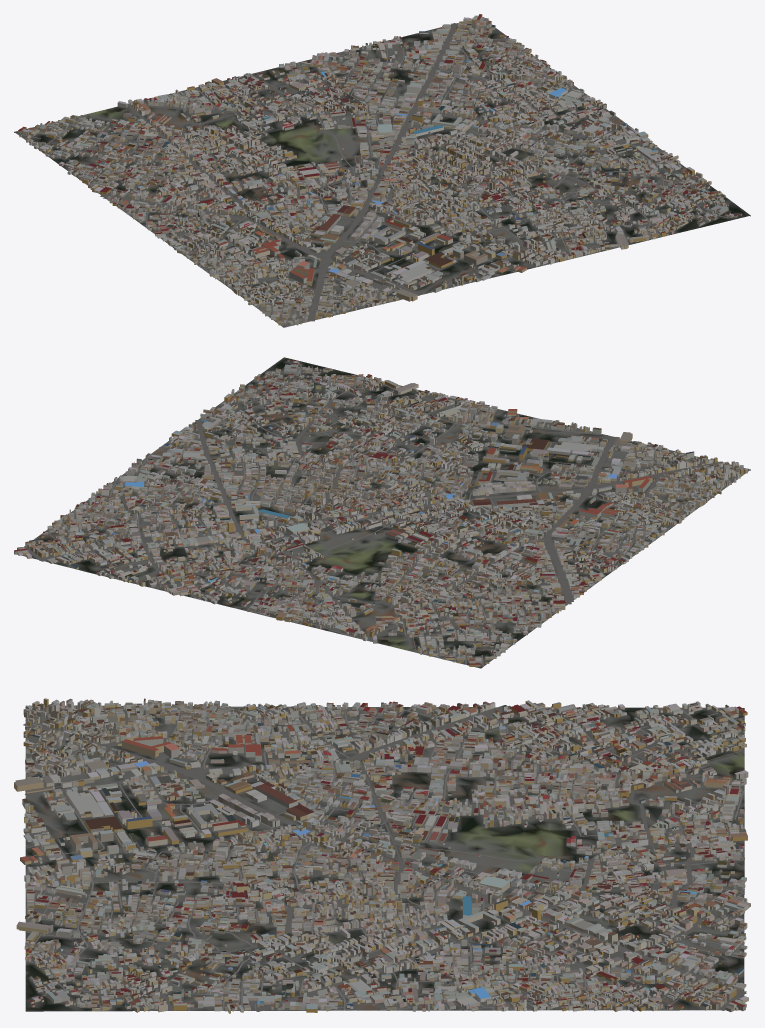
The picture shows the model from 3 angles, top to bottom: view 1: azimuth 30°, elevation 25°; view 2: azimuth 150°, elevation 25°; view 3: azimuth 270°, elevation 25°; orthographic projection. The views are drawn at different scales.
Visible parts, largest first — view 1: buildings, ground, roads; view 2: buildings, ground, roads; view 3: buildings, ground, roads.
Part boxes in pixels (box(x1,y1,x2,y2)): buildings: box(18, 14, 741, 325); ground: box(14, 22, 750, 327); roads: box(16, 22, 727, 327); buildings: box(14, 359, 747, 666); ground: box(14, 357, 750, 668); roads: box(24, 364, 748, 666); buildings: box(14, 698, 750, 1013); ground: box(25, 705, 744, 1011); roads: box(23, 705, 746, 1011).
Size of the model in its own units: 1421 by 30.75 by 1436.
